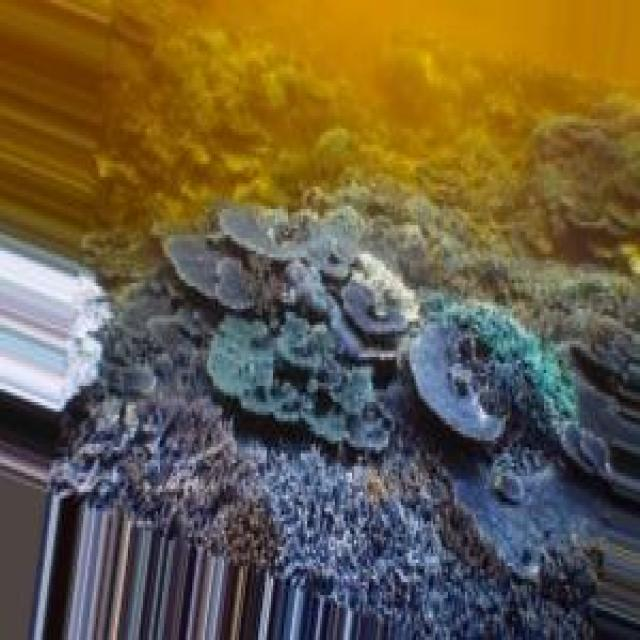Healthy: (56, 210, 596, 640), (406, 297, 581, 458), (210, 313, 391, 458), (321, 258, 415, 384), (165, 233, 287, 316), (210, 207, 359, 265)
